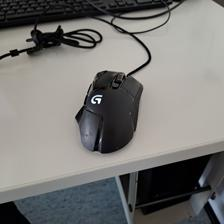mouse: (73, 69, 143, 154)
